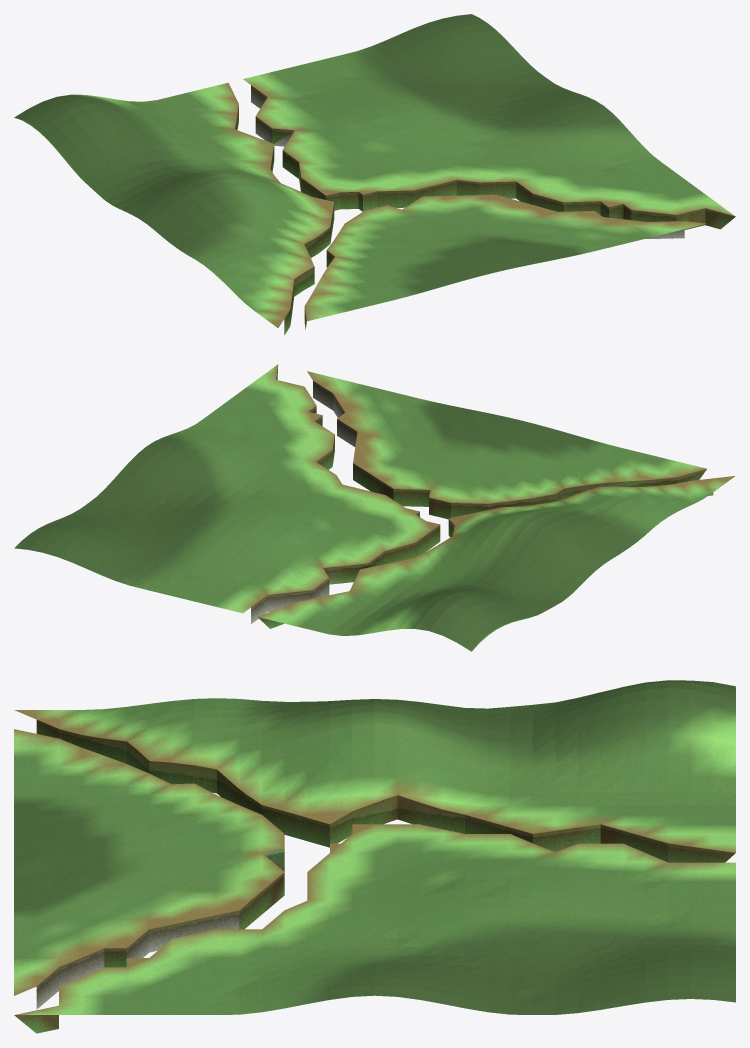
File: Ground.obj
The picture shows the model from 3 angles, top to bottom: view 1: azimuth 30°, elevation 25°; view 2: azimuth 150°, elevation 25°; view 3: azimuth 270°, elevation 25°; orthographic projection. The views are drawn at different scales.
Visible parts, largest first — view 1: Plane_Plane.024; view 2: Plane_Plane.024; view 3: Plane_Plane.024.
Part boxes in pixels (x1,y1,x2,y2): Plane_Plane.024: (14,14,735,335); Plane_Plane.024: (14,364,734,651); Plane_Plane.024: (14,680,735,1033).
Size of the model in its own units: 63 by 7.12 by 63.
Materials: 1 (1 with a texture image).
